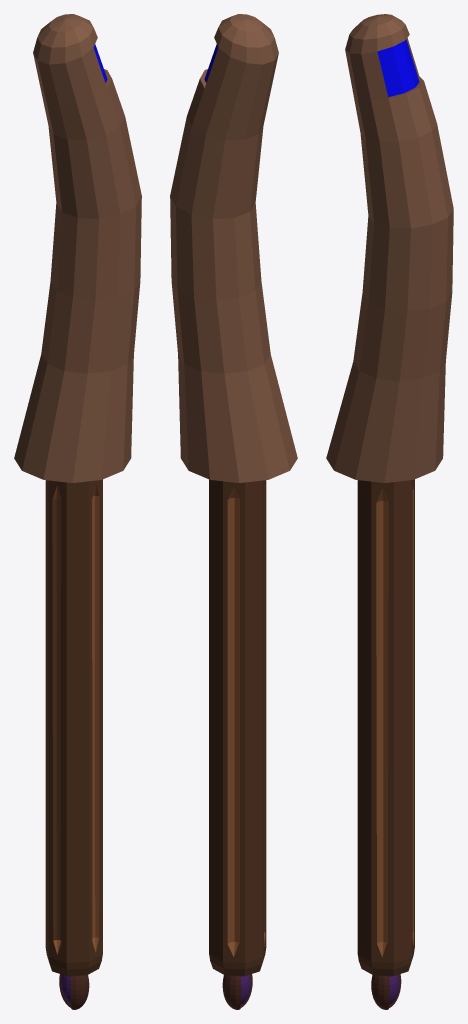
Rendered from Wand 547.glb.
3 renders of one model, left to right at view 1: azimuth 30°, elevation 25°; view 2: azimuth 150°, elevation 25°; view 3: azimuth 330°, elevation 25°, orthographic.
Parts seen in each view (by area): view 1: GeneratedWand; view 2: GeneratedWand; view 3: GeneratedWand.
Boxes of the visible parts, x1=… form: GeneratedWand: x1=14, y1=14, x2=141, y2=1009; GeneratedWand: x1=170, y1=14, x2=297, y2=1009; GeneratedWand: x1=326, y1=14, x2=453, y2=1009.
Bounding box in the file's own units: 0.0644 × 0.5344 × 0.0572.
